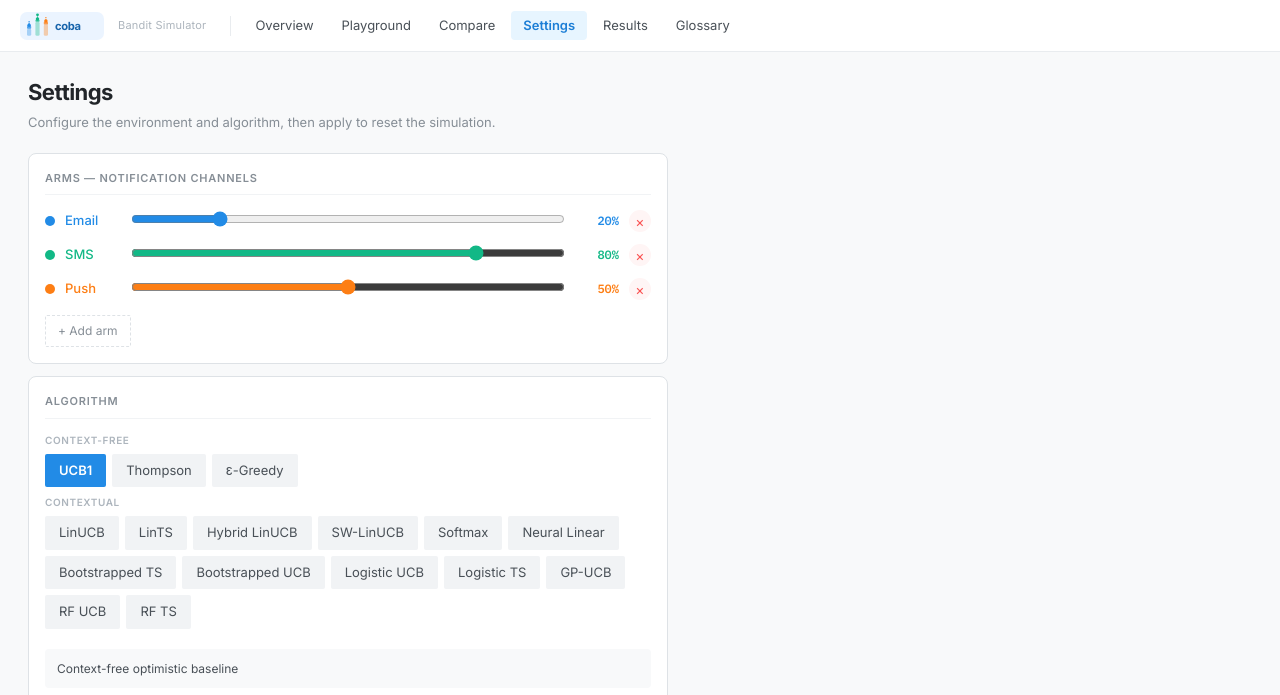
Test: SettingsPage › adds an arm when Add arm is clicked
Click the button "+ Add arm": coordinates (88, 331) [45,315,131,347]
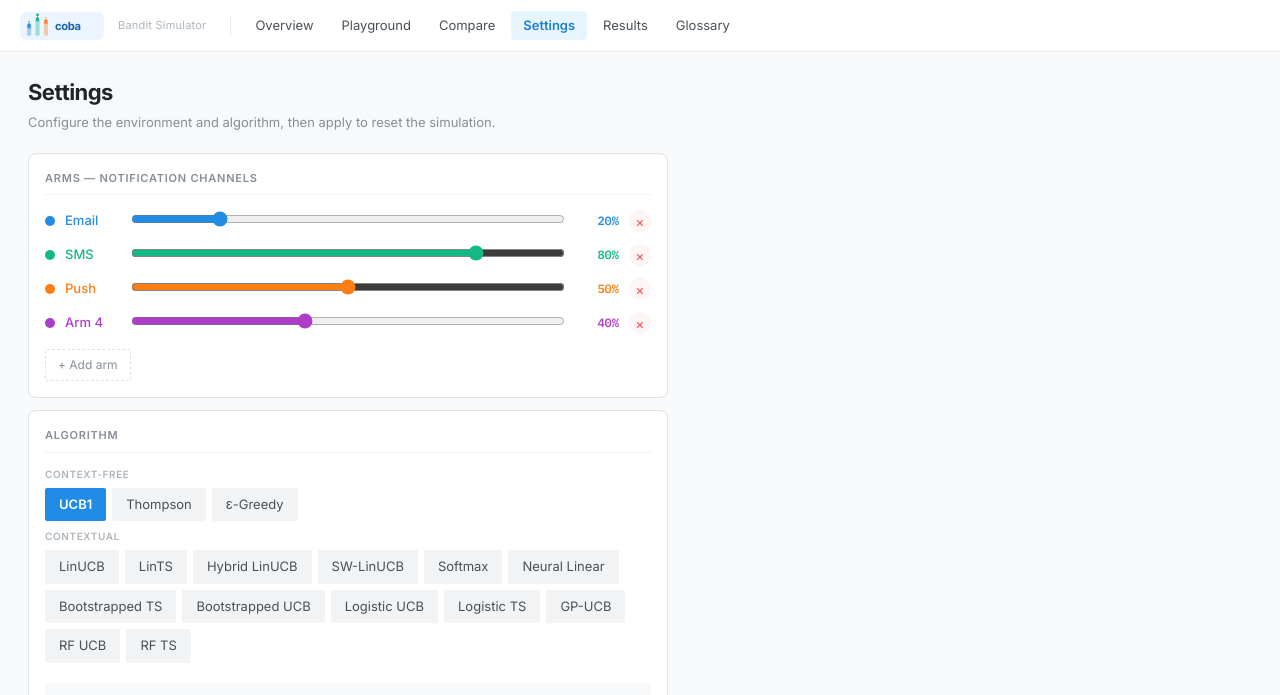
Check: the field showing "Arm 4" in the row of "40" is shown, box [65,313,121,333]
